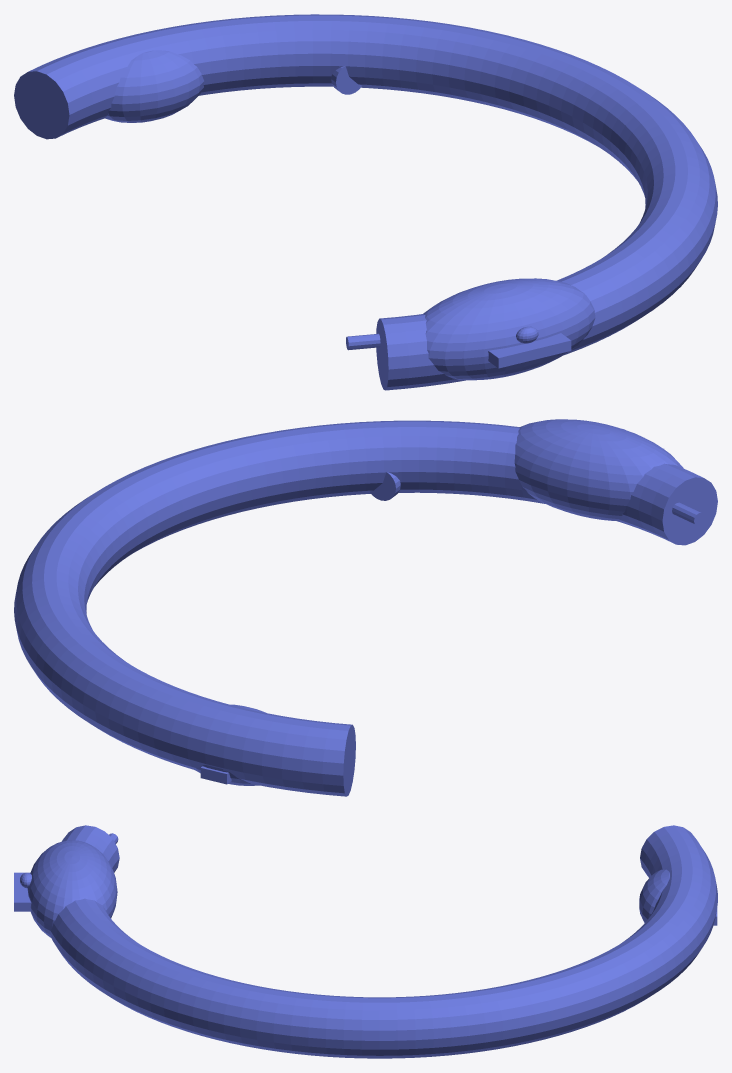
Rendered from nexus-neuro-band.obj.
3 views of the same model, one above another, from view 1: azimuth 30°, elevation 25°; view 2: azimuth 150°, elevation 25°; view 3: azimuth 270°, elevation 25° (orthographic). The views are drawn at different scales.
Visible parts, largest first — view 1: NexusNeuroBand; view 2: NexusNeuroBand; view 3: NexusNeuroBand.
Boxes of the visible parts, x1,y1,x2,y2 form: NexusNeuroBand: [14, 14, 717, 390]; NexusNeuroBand: [14, 419, 717, 796]; NexusNeuroBand: [14, 825, 717, 1058].
Bounding box in the file's own units: 144 × 26 × 217.
